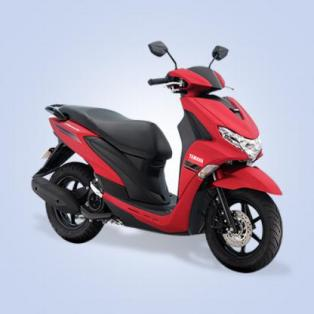Motocicleta: (31, 37, 288, 276)
